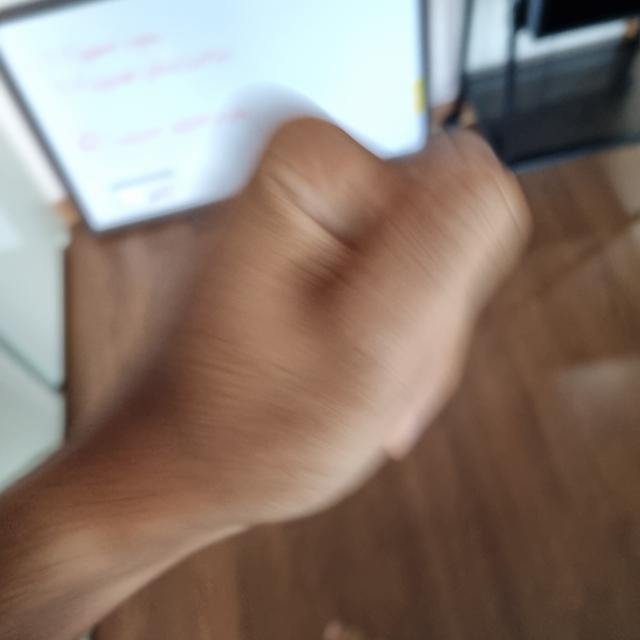Rock: (100, 106, 524, 526)
